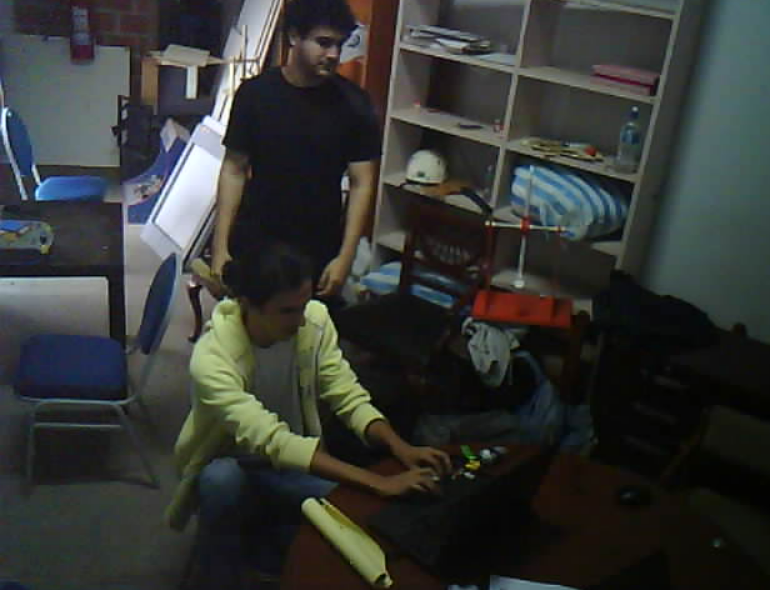person: (155, 228, 463, 587), (200, 0, 389, 306)
